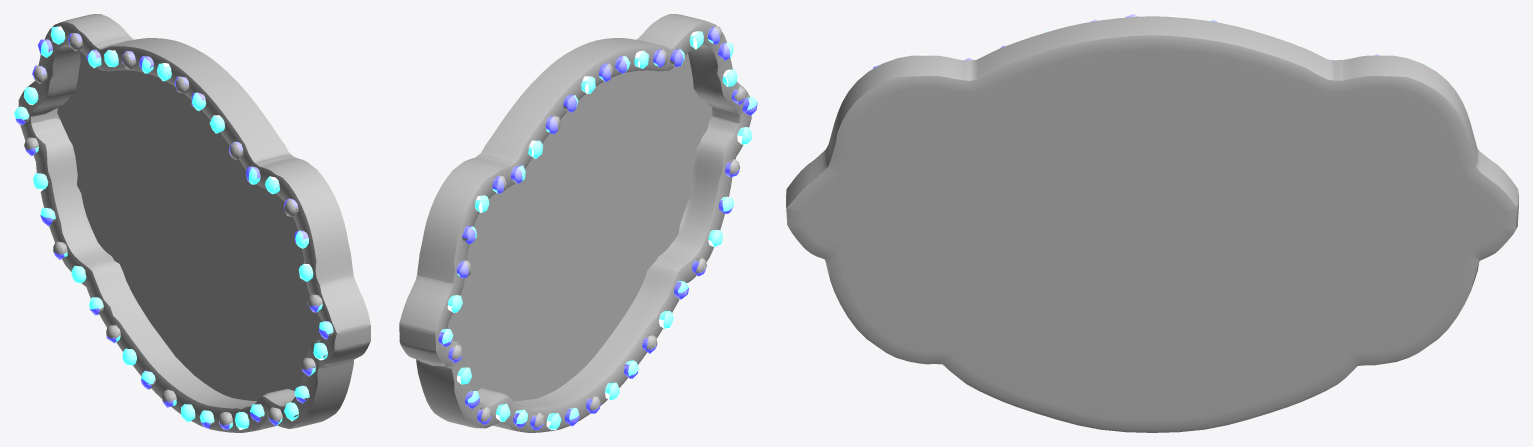
File: SM_SignBoard_01c.fbx
The picture shows the model from 3 angles, left to right: view 1: azimuth 30°, elevation 25°; view 2: azimuth 150°, elevation 25°; view 3: azimuth 270°, elevation 25°; orthographic projection. The views are drawn at different scales.
Parts seen in each view (by area): view 1: SM_SignBoard_01c_LOD0; view 2: SM_SignBoard_01c_LOD0; view 3: SM_SignBoard_01c_LOD0.
Boxes of the visible parts, x1=… form: SM_SignBoard_01c_LOD0: x1=14, y1=14, x2=370, y2=432; SM_SignBoard_01c_LOD0: x1=399, y1=14, x2=757, y2=432; SM_SignBoard_01c_LOD0: x1=786, y1=14, x2=1518, y2=432.
Size of the model in its own units: 10.87 by 130 by 78.36.
